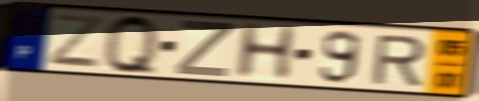9: (317, 29, 362, 85)
H: (231, 21, 300, 80)
Q: (103, 12, 159, 79)
R: (369, 33, 429, 87)
Z: (172, 18, 235, 79), (46, 12, 105, 70)
